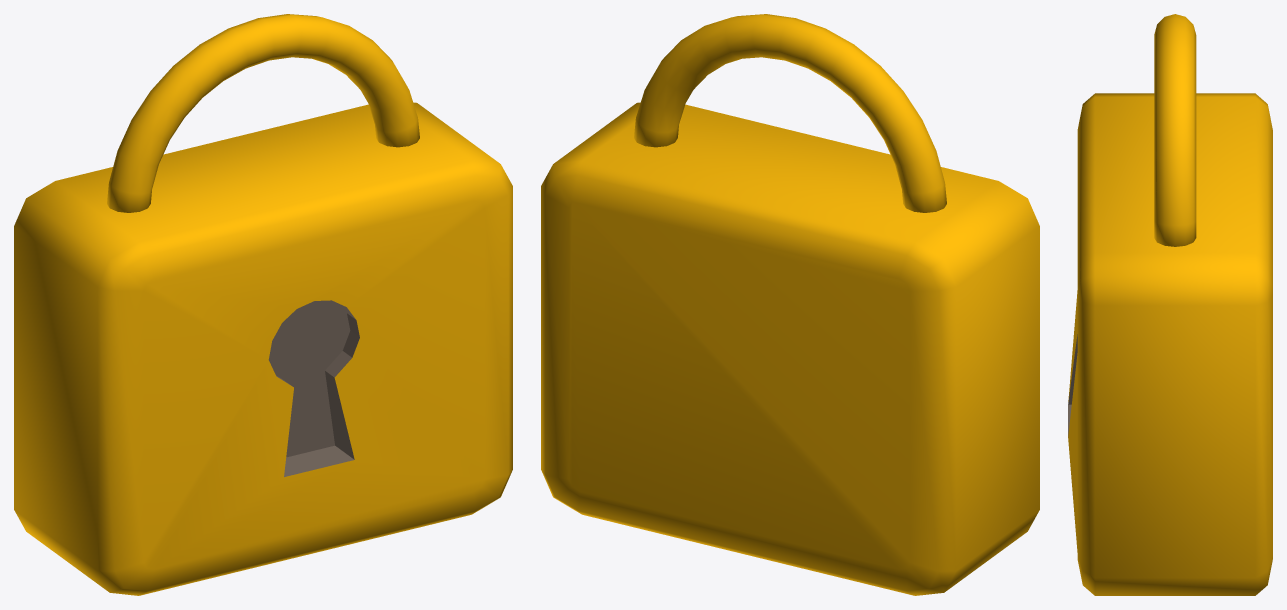
Rendered from Lock.fbx.
The picture shows the model from 3 angles, left to right: view 1: azimuth 30°, elevation 25°; view 2: azimuth 150°, elevation 25°; view 3: azimuth 270°, elevation 25°; orthographic projection. The views are drawn at different scales.
Parts seen in each view (by area): view 1: Lock; view 2: Lock; view 3: Lock.
Boxes of the visible parts, <box> form: Lock: <box>14,14,512,595</box>; Lock: <box>541,14,1039,595</box>; Lock: <box>1068,14,1272,595</box>.
Size of the model in its own units: 24.63 by 28.64 by 10.97.
